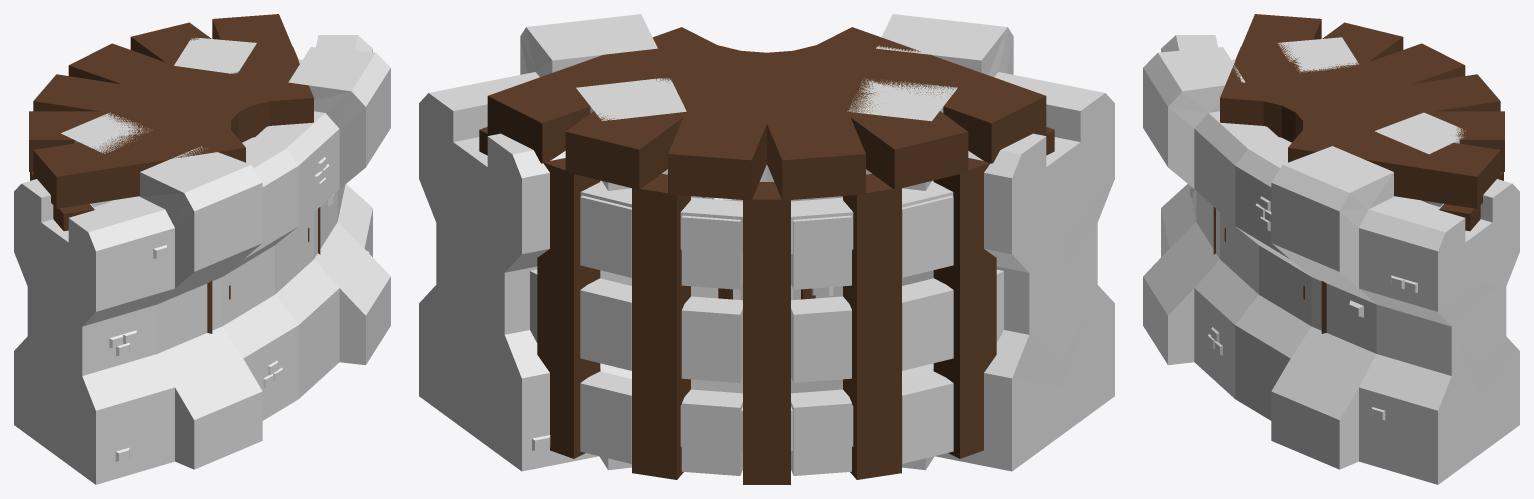
The model's file is SM_CRHex_WallCornerA_Tier1_Wood.fbx.
3 views of the same model, side by side, from view 1: azimuth 30°, elevation 25°; view 2: azimuth 150°, elevation 25°; view 3: azimuth 270°, elevation 25° (orthographic). The views are drawn at different scales.
Parts seen in each view (by area): view 1: SM_CRHex_WallCornerA_Tier1_Wood_Core, SM_CRHex_WallCornerA_Tier1_Wood_Accent, SM_CRHex_WallCornerA_Tier1_Wood_StyleRibs; view 2: SM_CRHex_WallCornerA_Tier1_Wood_Core, SM_CRHex_WallCornerA_Tier1_Wood_StyleRibs, SM_CRHex_WallCornerA_Tier1_Wood_Accent, SM_CRHex_WallCornerA_Tier1_Wood_StylePanels, SM_CRHex_WallCornerA_Tier1_Wood_Detail; view 3: SM_CRHex_WallCornerA_Tier1_Wood_Core, SM_CRHex_WallCornerA_Tier1_Wood_Accent, SM_CRHex_WallCornerA_Tier1_Wood_StyleRibs.
Part boxes in pixels (left/top/right/bottom): SM_CRHex_WallCornerA_Tier1_Wood_Core: left=14, top=35, right=390, bottom=484; SM_CRHex_WallCornerA_Tier1_Wood_Accent: left=29, top=14, right=313, bottom=299; SM_CRHex_WallCornerA_Tier1_Wood_StyleRibs: left=30, top=46, right=320, bottom=333; SM_CRHex_WallCornerA_Tier1_Wood_Core: left=419, top=14, right=1114, bottom=471; SM_CRHex_WallCornerA_Tier1_Wood_StyleRibs: left=479, top=127, right=1054, bottom=484; SM_CRHex_WallCornerA_Tier1_Wood_Accent: left=487, top=27, right=1046, bottom=200; SM_CRHex_WallCornerA_Tier1_Wood_StylePanels: left=530, top=195, right=1003, bottom=475; SM_CRHex_WallCornerA_Tier1_Wood_Detail: left=580, top=180, right=953, bottom=451; SM_CRHex_WallCornerA_Tier1_Wood_Core: left=1143, top=35, right=1519, bottom=484; SM_CRHex_WallCornerA_Tier1_Wood_Accent: left=1220, top=14, right=1504, bottom=299; SM_CRHex_WallCornerA_Tier1_Wood_StyleRibs: left=1213, top=46, right=1503, bottom=333.
Bounding box in the file's own units: 1.76 × 1.1 × 1.38.
